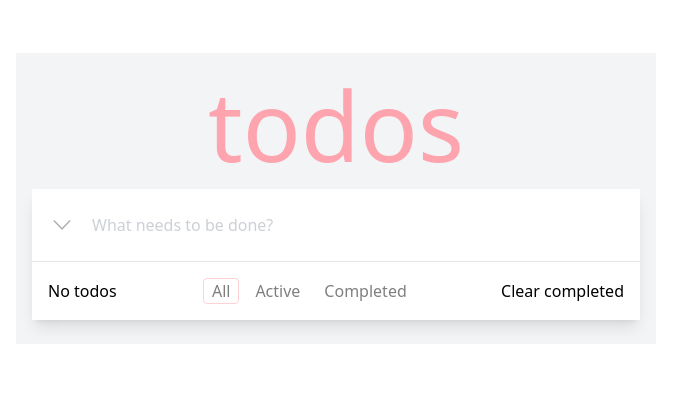
Test: App component › should add a new todo
The width and height of the screenshot is (673, 397).
Step 1. Type "New Todo" into the field with placeholder "What needs to be done?" → point(354, 224), box [80,200,628,248]
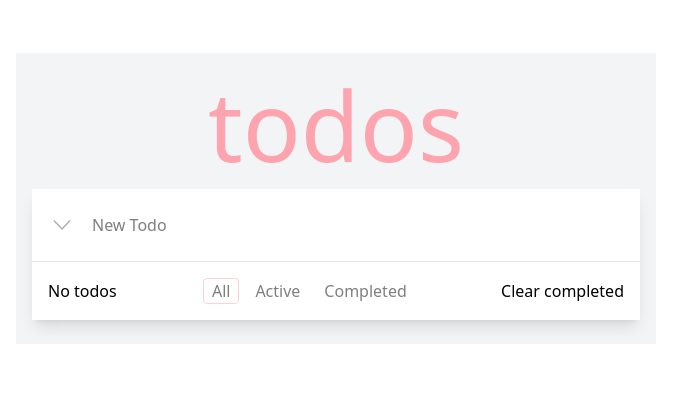
Step 2. Submit the form with placeholder "What needs to be done?", box [32,188,640,262]
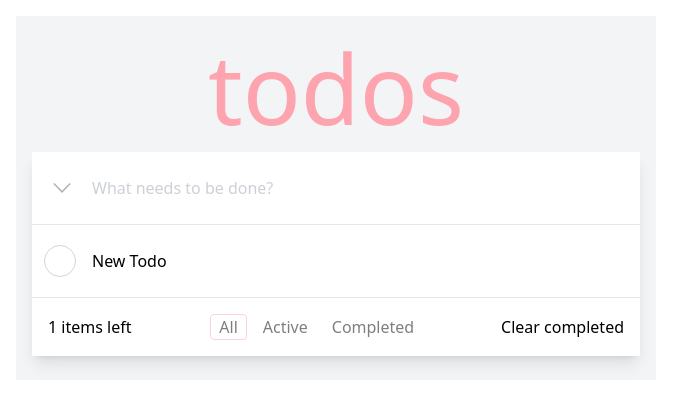
Now the heading "New Todo" is shown, box [92,249,167,273]
